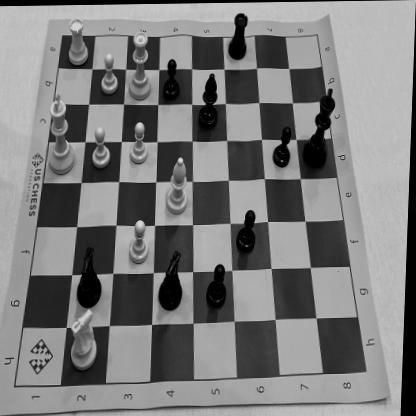black-bishop: (197, 68, 223, 132)
black-king: (302, 81, 340, 168)
black-knight: (74, 241, 107, 308), (158, 247, 188, 313)
black-pawn: (205, 258, 232, 311), (236, 206, 262, 257), (162, 52, 184, 102), (272, 121, 294, 170)
black-rook: (225, 7, 252, 63)
white-bishop: (164, 154, 192, 217)
white-king: (47, 89, 80, 176)
white-knight: (69, 304, 104, 373)
white-pawn: (128, 214, 154, 266), (128, 116, 152, 168), (99, 49, 121, 98), (92, 121, 114, 170)
white-queen: (128, 27, 156, 102)
white-rook: (64, 13, 93, 70)
